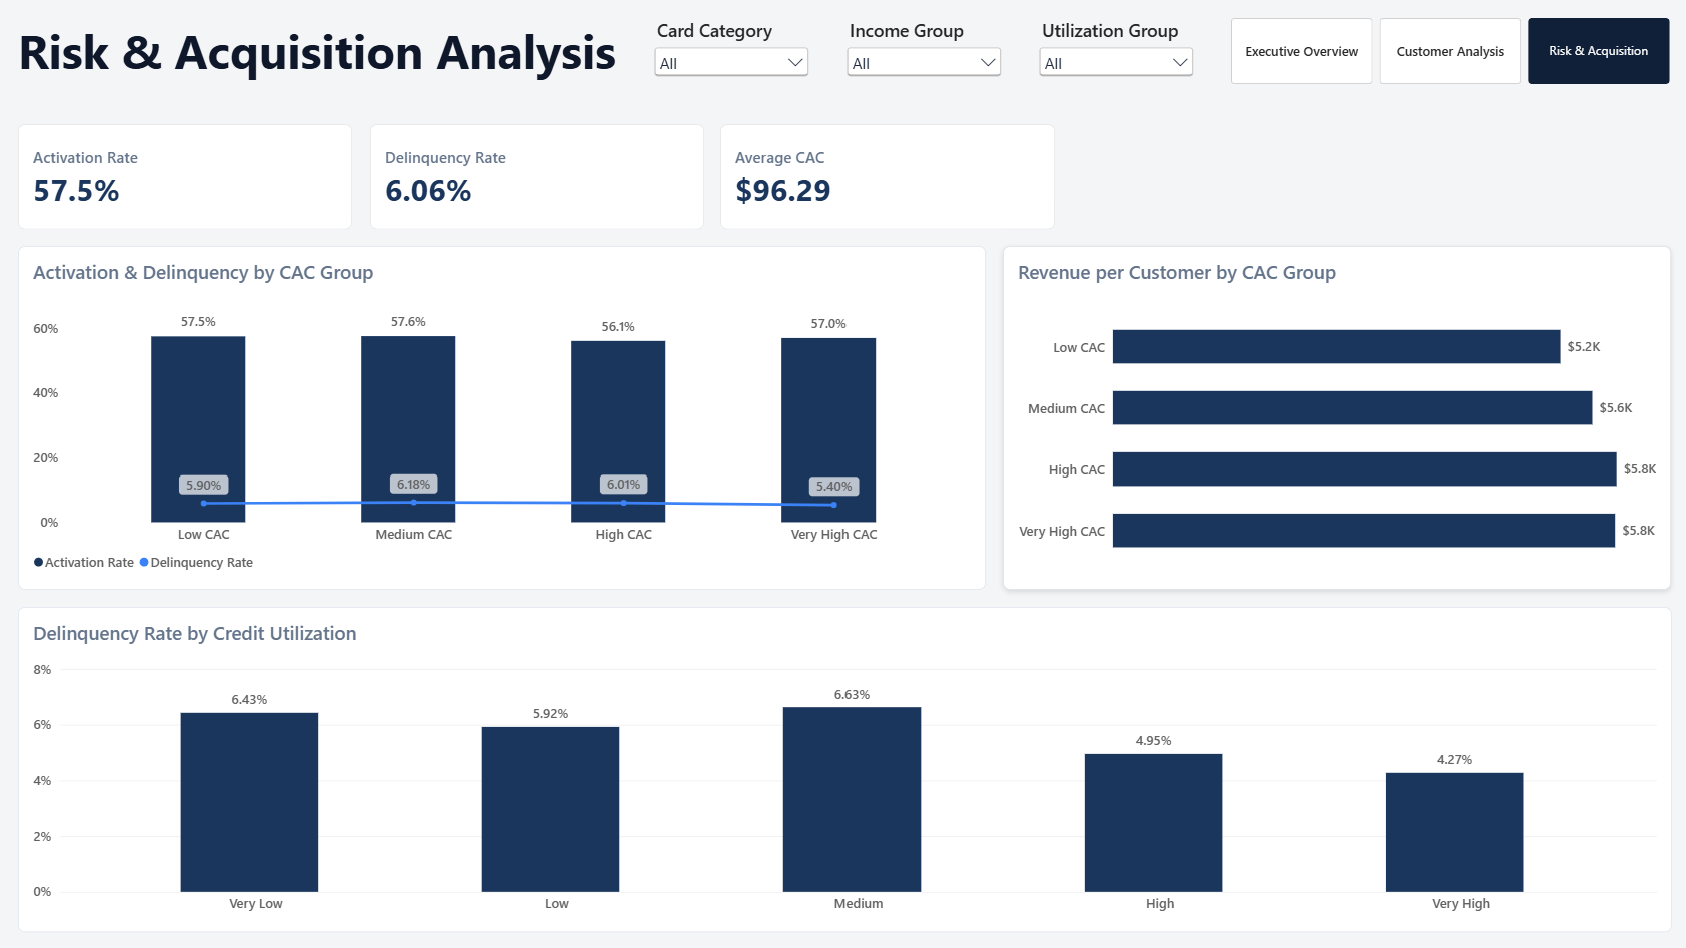

The page's visual inventory and layout, read from the dashboard file:
{"tool":"powerbi","page":{"name":"Risk & Acquisition","canvas":[1920,1080],"ordinal":2},"visuals":[{"type":"cardVisual","fields":{"Data":["Measure(s).Activation Rate"]},"box":[20,140,380,120],"z":0},{"type":"cardVisual","fields":{"Data":["Measure(s).Delinquency Rate"]},"box":[420,140,380,120],"z":1},{"type":"cardVisual","fields":{"Data":["Measure(s).Average CAC"]},"box":[820,140,380,120],"z":2},{"type":"clusteredBarChart","title":"Revenue per Customer by CAC Group","fields":{"Category":["cc_detail.CAC Group"],"Y":["Measure(s).Revenue Per Customer"]},"box":[1140,280,760,390],"z":3},{"type":"lineClusteredColumnComboChart","title":"Activation & Delinquency by CAC Group","fields":{"Category":["cc_detail.CAC Group"],"Y":["Measure(s).Activation Rate"],"Y2":["Measure(s).Delinquency Rate"]},"box":[20.5,280,1100,390],"z":4},{"type":"clusteredColumnChart","title":"Delinquency Rate by Credit Utilization","fields":{"Category":["cc_detail.Utilization Group"],"Y":["Measure(s).Delinquency Rate"]},"box":[20.5,690,1880,370],"z":5},{"type":"slicer","fields":{"Values":["cc_detail.Card_Category"]},"box":[739.3,20,185,75],"z":6},{"type":"slicer","fields":{"Values":["cust_detail.Income Group"]},"box":[957.7,20,185,75],"z":7},{"type":"slicer","fields":{"Values":["cc_detail.Utilization Group"]},"box":[1176.1,20,185,75],"z":8},{"type":"textbox","box":[20.5,20.5,700,100],"z":9},{"type":"pageNavigator","box":[1400,20,500,75],"z":12}]}

Visuals, with their boxes in screenshot pixels (x1, y1, x2, y2), scaled from the page's 1920x1080 canvas onto the 1686x948 screenshot:
cardVisual - Measure(s).Activation Rate: locate(18, 123, 351, 228)
cardVisual - Measure(s).Delinquency Rate: locate(369, 123, 702, 228)
cardVisual - Measure(s).Average CAC: locate(720, 123, 1054, 228)
"Revenue per Customer by CAC Group" clusteredBarChart: locate(1001, 246, 1668, 588)
"Activation & Delinquency by CAC Group" lineClusteredColumnComboChart: locate(18, 246, 984, 588)
"Delinquency Rate by Credit Utilization" clusteredColumnChart: locate(18, 606, 1669, 930)
slicer - cc_detail.Card_Category: locate(649, 18, 812, 83)
slicer - cust_detail.Income Group: locate(841, 18, 1003, 83)
slicer - cc_detail.Utilization Group: locate(1033, 18, 1195, 83)
textbox: locate(18, 18, 633, 106)
pageNavigator: locate(1229, 18, 1668, 83)
